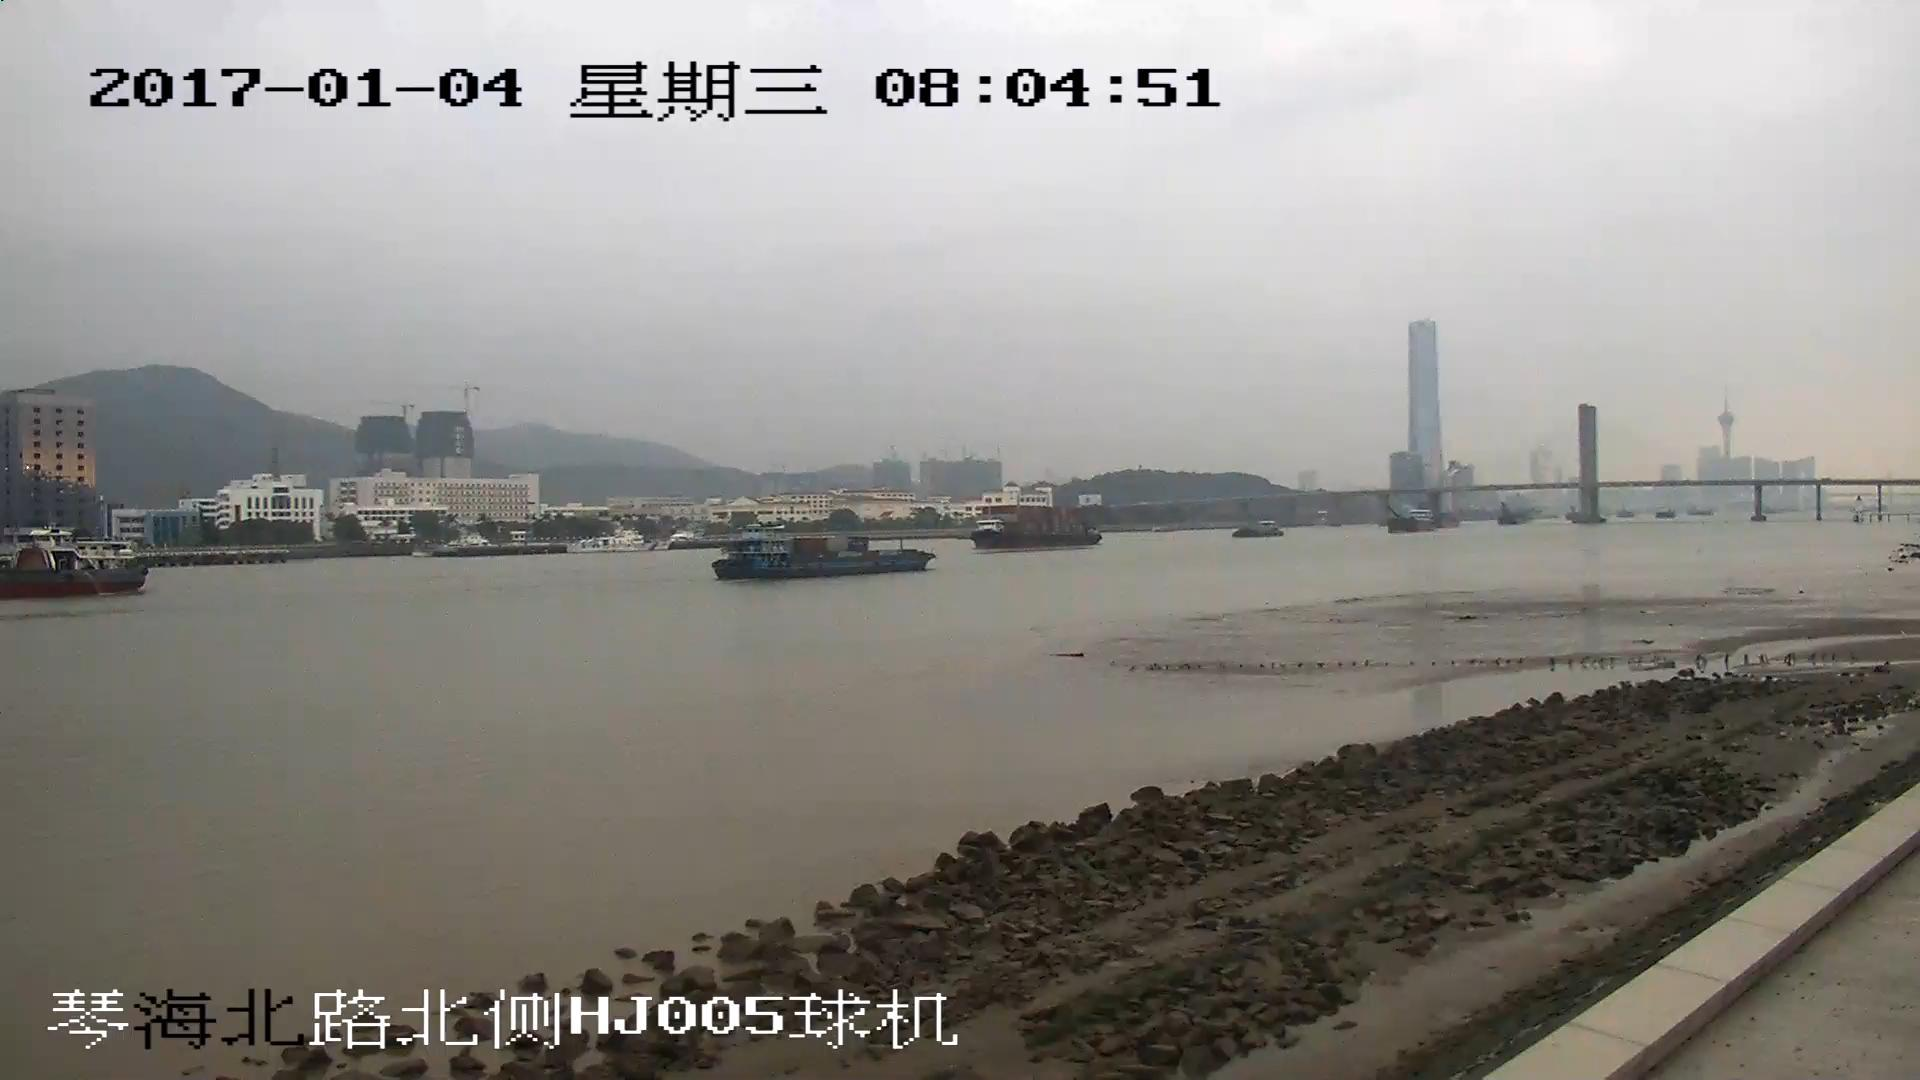Ship: (717, 543, 936, 576), (971, 506, 1108, 546)
